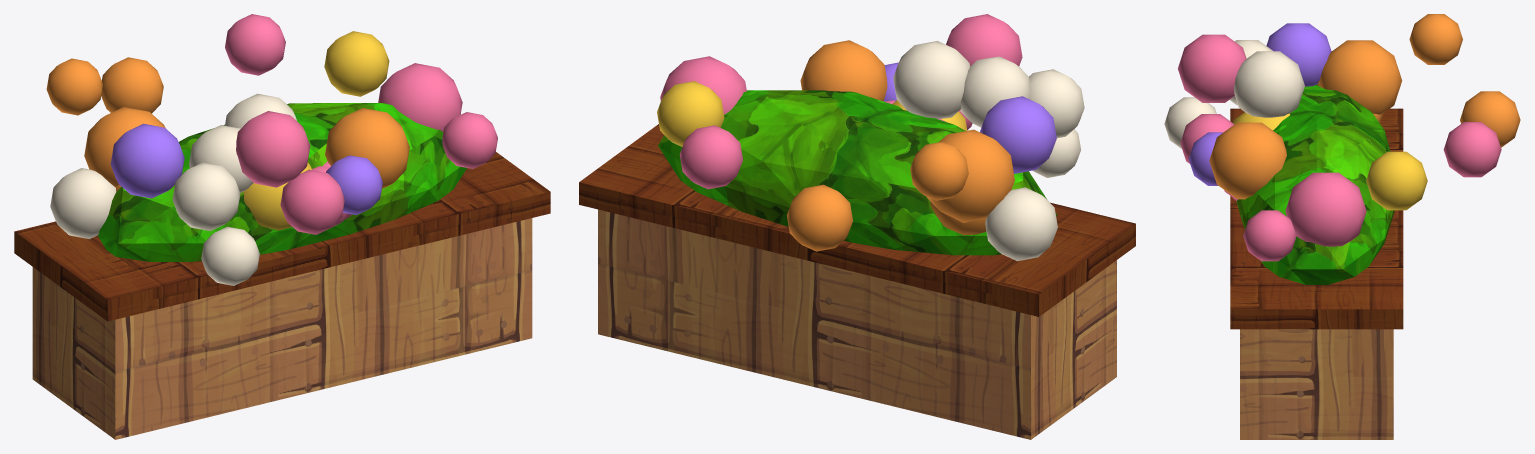
File: planter_box.glb
3 views of the same model, side by side, from view 1: azimuth 30°, elevation 25°; view 2: azimuth 150°, elevation 25°; view 3: azimuth 270°, elevation 25° (orthographic). The views are drawn at different scales.
Parts seen in each view (by area): view 1: planter_box; view 2: planter_box; view 3: planter_box.
Part boxes in pixels (x1,y1,x2,y2): planter_box: [14, 14, 550, 439]; planter_box: [579, 14, 1135, 439]; planter_box: [1164, 14, 1520, 439].
Bounding box in the file's own units: 1.7 × 1.11 × 1.28.
8 materials, 3 textured.
